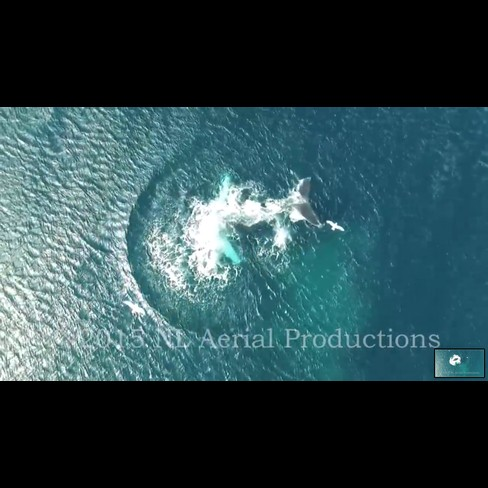hump: (167, 169, 331, 275)
